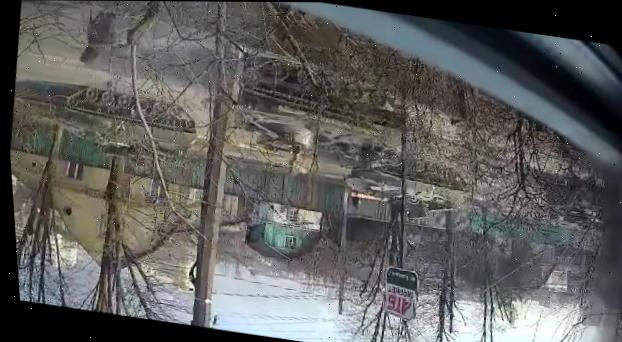tank: (208, 50, 425, 173), (43, 82, 203, 169), (335, 148, 473, 225), (528, 169, 616, 235)
